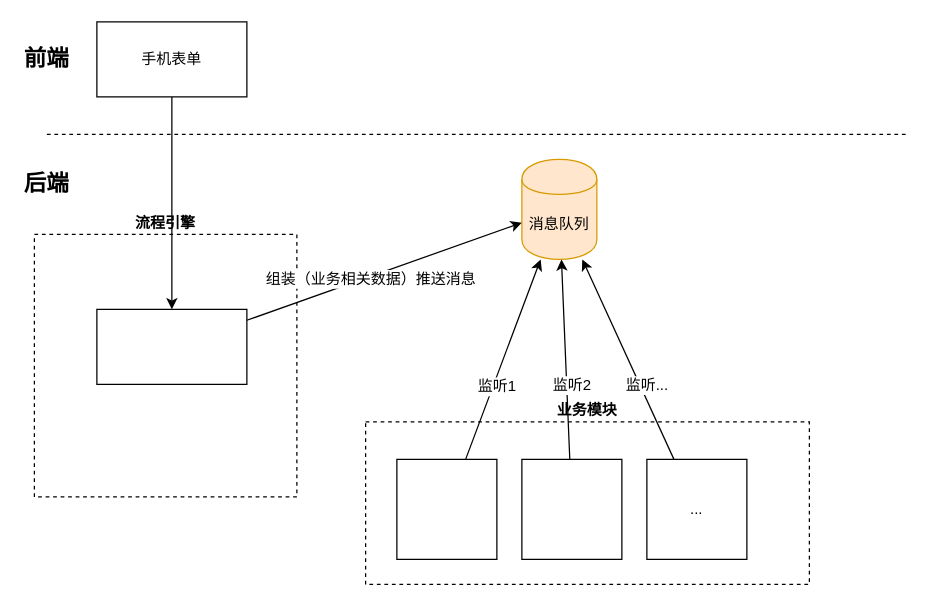
The diagram is 933 pixels wide and 606 high, and some of its shapes have lost their labels. The shapes that lost their labels are listed below. From the top down, each one's centre as x and y in pixels, then its label:
At [171,346]: "提交流程".
At [446,508]: "发文".
At [571,508]: "收文".
